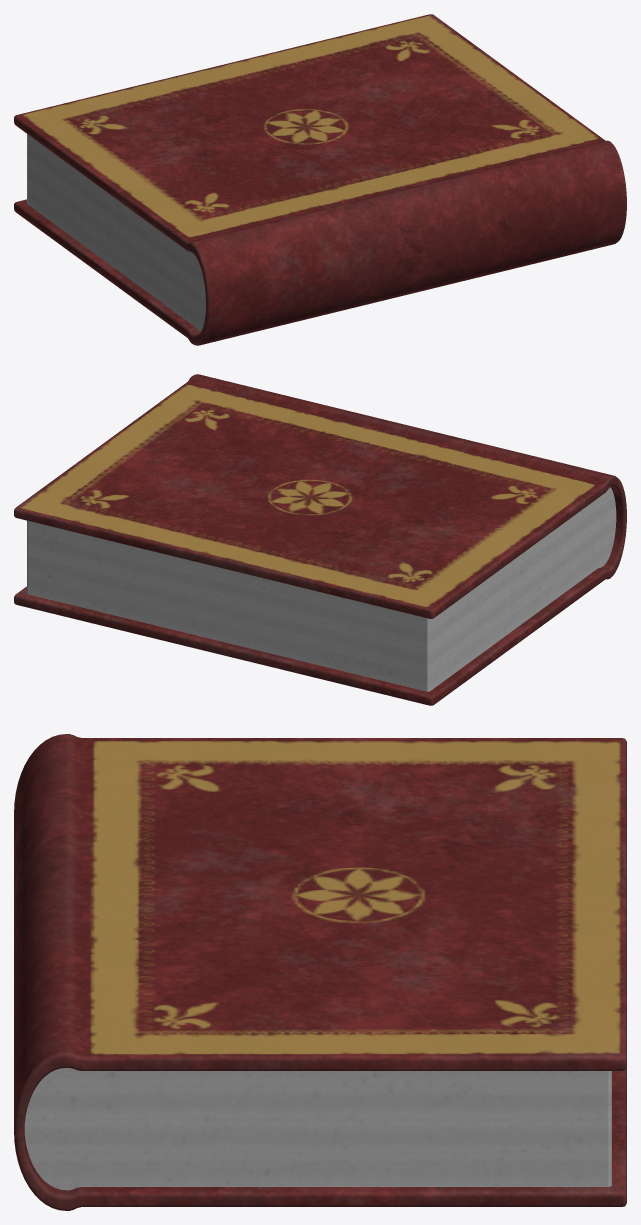
The model's file is SM_BookA.fbx.
3 views of the same model, one above another, from view 1: azimuth 30°, elevation 25°; view 2: azimuth 150°, elevation 25°; view 3: azimuth 270°, elevation 25° (orthographic). The views are drawn at different scales.
Parts seen in each view (by area): view 1: SM_BookA_LOD0; view 2: SM_BookA_LOD0; view 3: SM_BookA_LOD0.
Boxes of the visible parts, x1,y1,x2,y2 form: SM_BookA_LOD0: (14,14,626,345); SM_BookA_LOD0: (14,374,626,705); SM_BookA_LOD0: (14,734,626,1210).
Bounding box in the file's own units: 34.95 × 28.21 × 8.07.
1 material, 1 textured.
